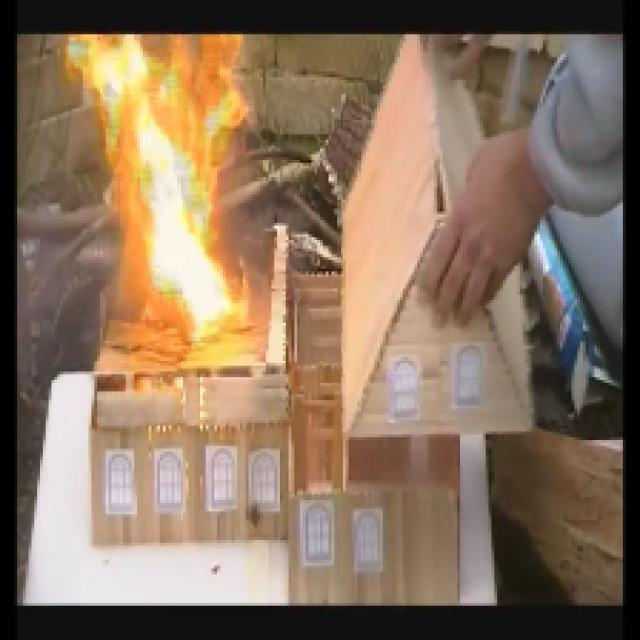Fire: (76, 41, 247, 366)
